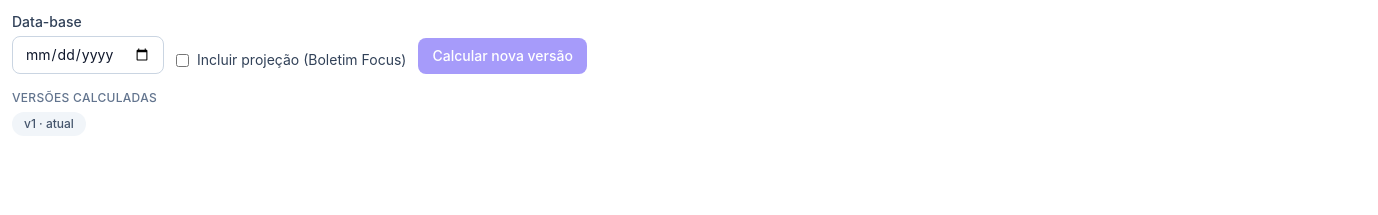
Test: AbaMemoria › erro 503 do calcular → mensagem, sem tabela
Type "2024-10-01" into the date field labelled "Data-base". click: (88,55)
box: [12,36,164,74]
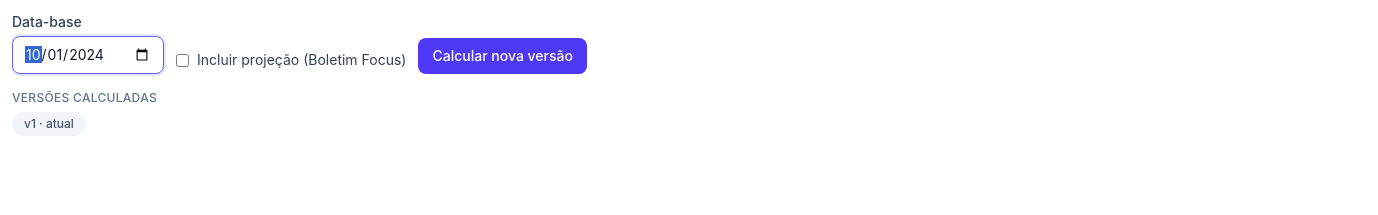
Click the button "Calcular nova versão". click: (503,56)
box: [418,38,587,74]
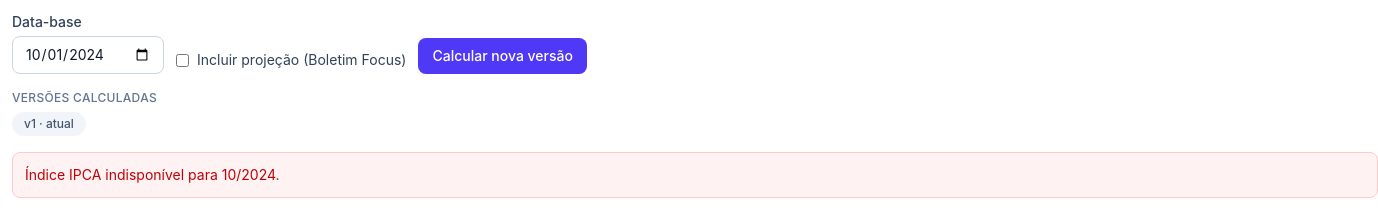
Now the message shows "indisponível", box [25,166,280,183]
